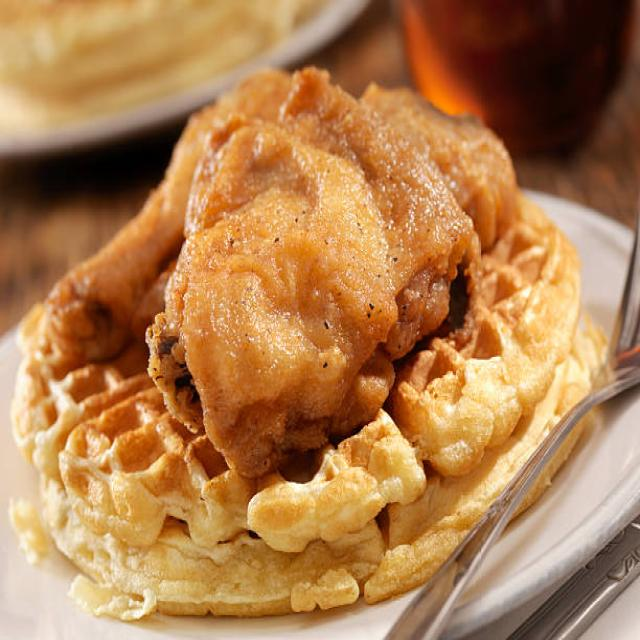Frango: (43, 54, 519, 473)
